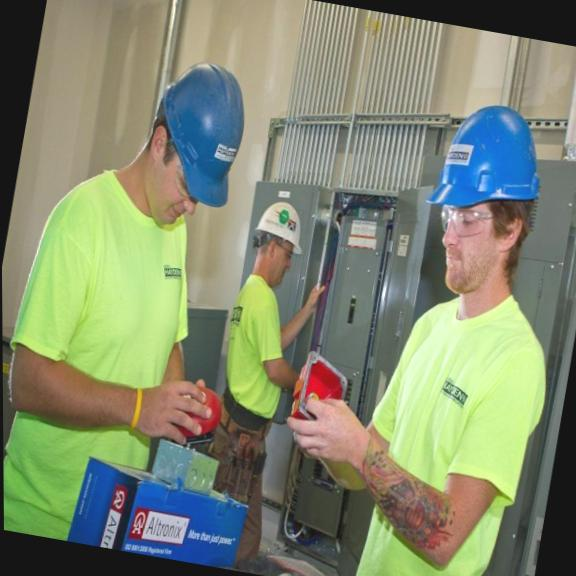no_safety_vest: (1, 165, 226, 557), (339, 283, 562, 576), (208, 270, 306, 430)
